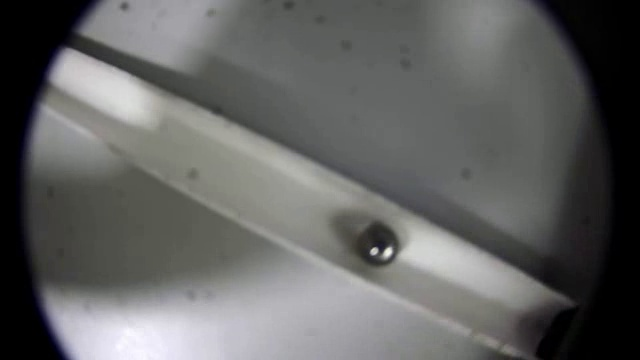gangzhu: (356, 223, 400, 266)
